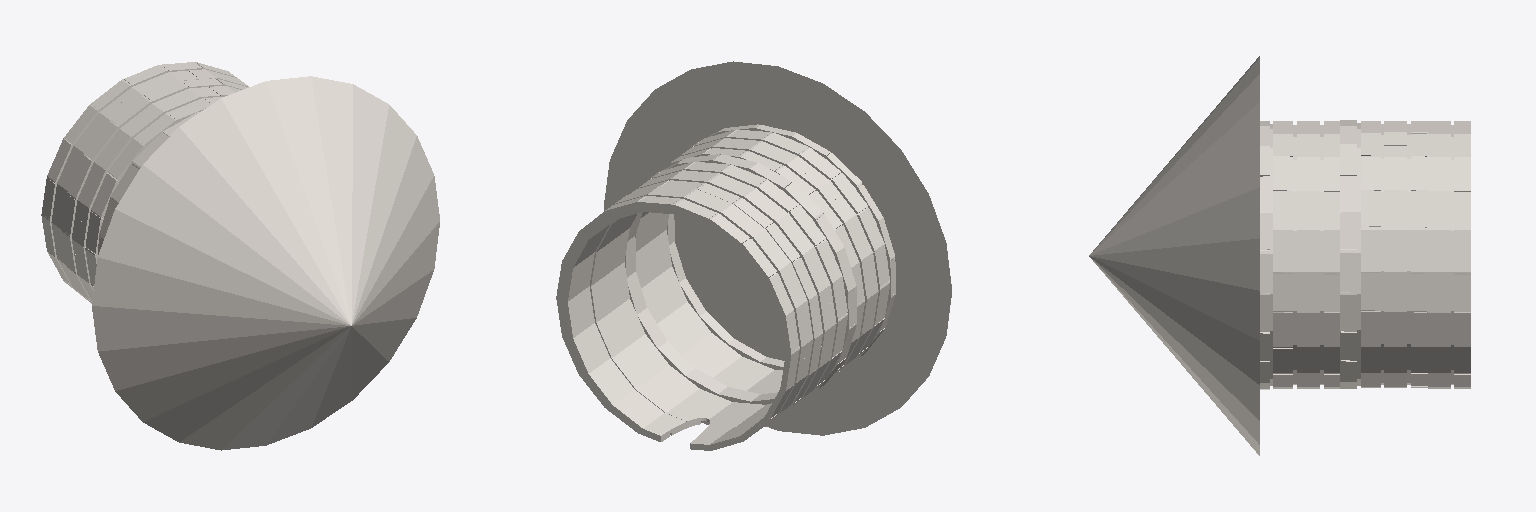
File: tinker.obj
3 views of the same model, side by side, from view 1: azimuth 30°, elevation 25°; view 2: azimuth 150°, elevation 25°; view 3: azimuth 270°, elevation 25° (orthographic).
Visible parts, largest first — view 1: obj_0; view 2: obj_0; view 3: obj_0.
Part boxes in pixels (left/top/right/bottom): obj_0: left=41, top=62, right=439, bottom=450; obj_0: left=556, top=61, right=951, bottom=450; obj_0: left=1089, top=56, right=1470, bottom=455.
Size of the model in its own units: 120 by 120 by 114.